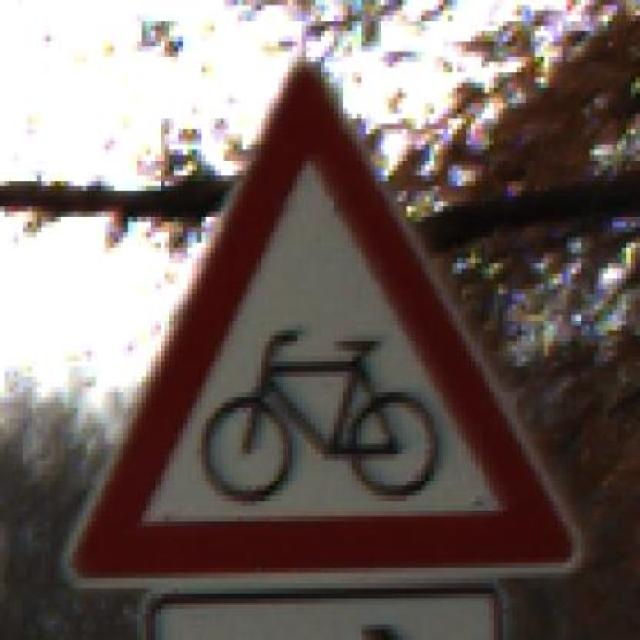CYCLE ROUTE AHEAD WARNING: (41, 51, 594, 588)
